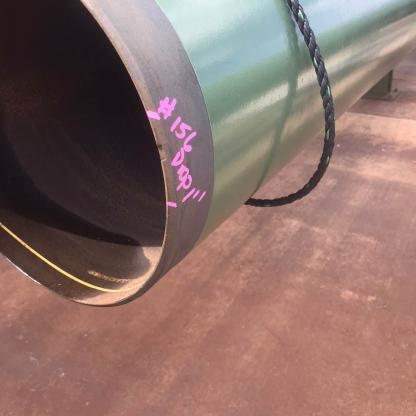Bevel: (150, 137, 172, 165)
